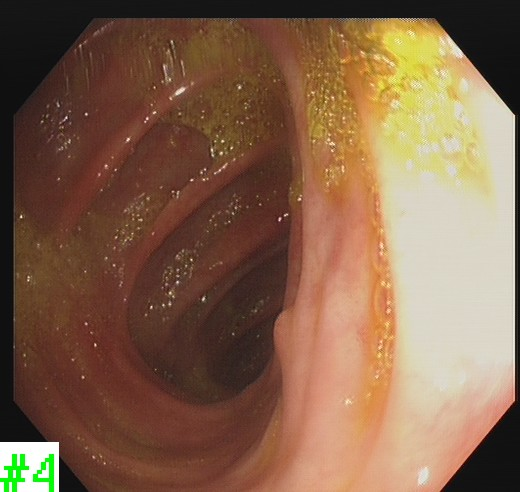adenoma: (269, 308, 291, 376)
